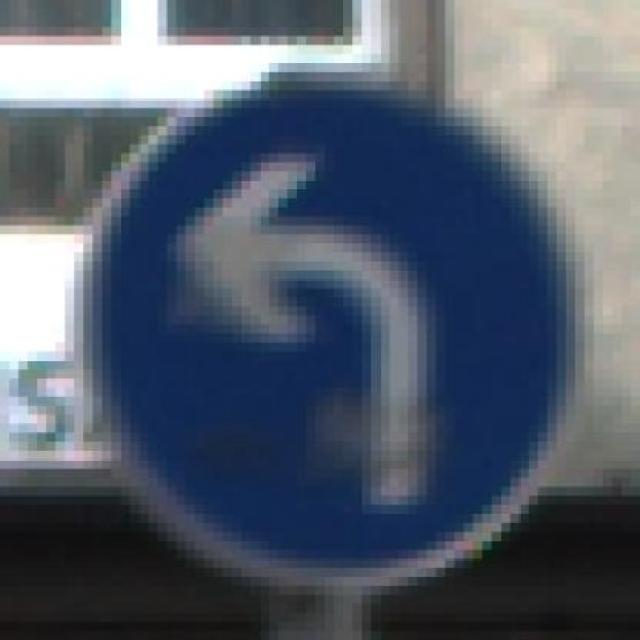Turn left ahead: (74, 63, 603, 605)
